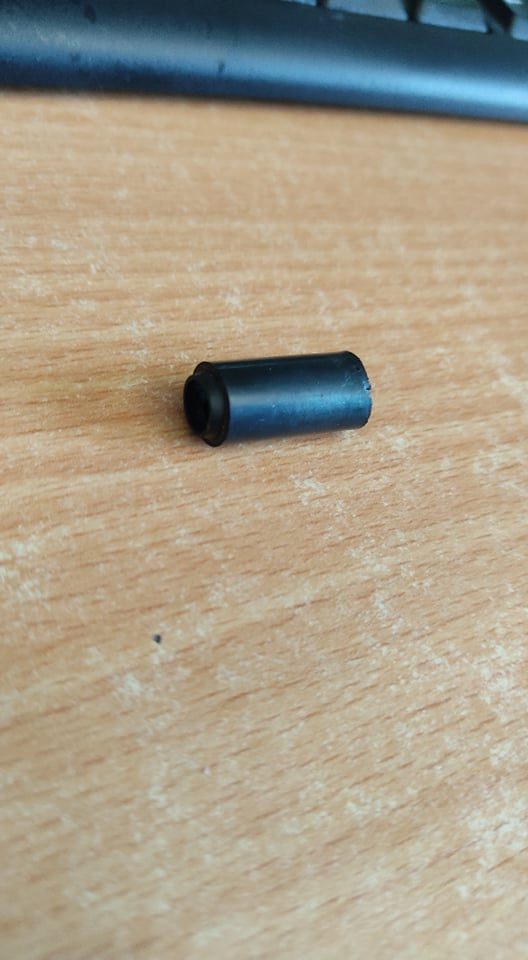black_bucking: (145, 313, 406, 472)
